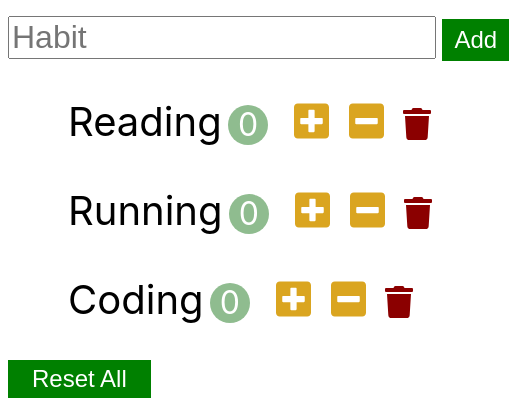
it: Habit Tracker › increase count
This screenshot has width=526, height=415.
Click the button titled "increment" in the row of "Reading": (312, 123) [288,99,335,146]
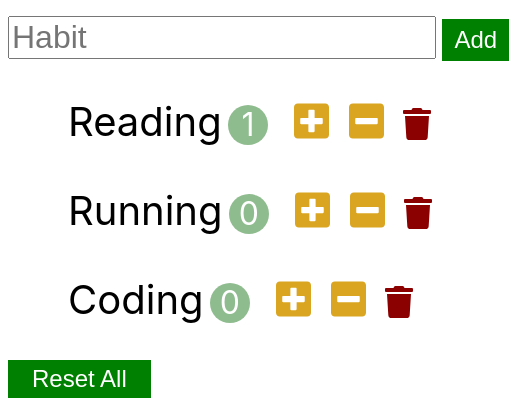
Check: the text with test id "habit-count" reads "1", box [228,105,268,145]
